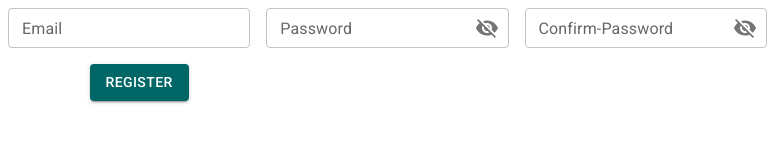
Test case: Test input validations at Registeration page › Input fields must not be empty
Click the button "REGISTER" at x=139, y=82, box [90,64,189,100]
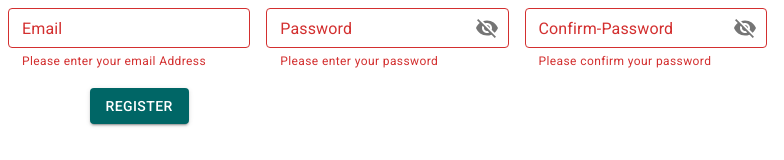
Expected: the text "Please enter your email Address" is shown, [22,52,236,72]
Expected: the text "Please enter your password" is shown, [280,54,438,68]
Expected: the text "Please confirm your password" is shown, [538,54,711,68]
